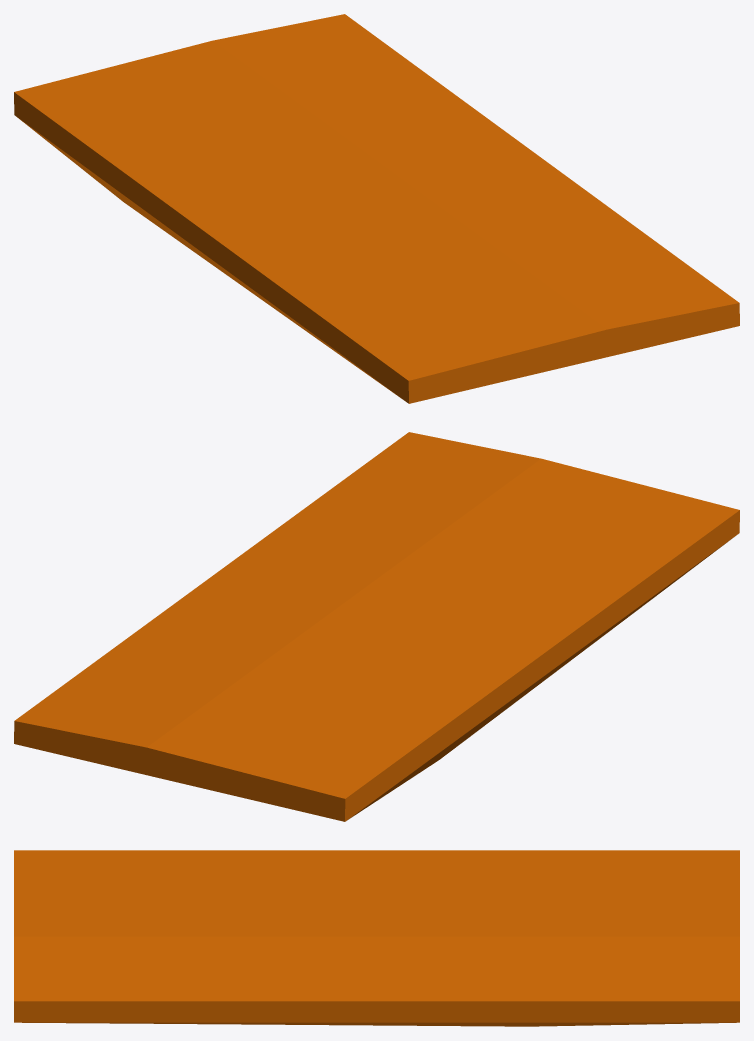
Rendered from garden_table_convex_piece_008.obj.
The picture shows the model from 3 angles, top to bottom: view 1: azimuth 30°, elevation 25°; view 2: azimuth 150°, elevation 25°; view 3: azimuth 270°, elevation 25°; orthographic projection. The views are drawn at different scales.
Bounding box in the file's own units: 0.2516 × 0.0294 × 0.5192.
